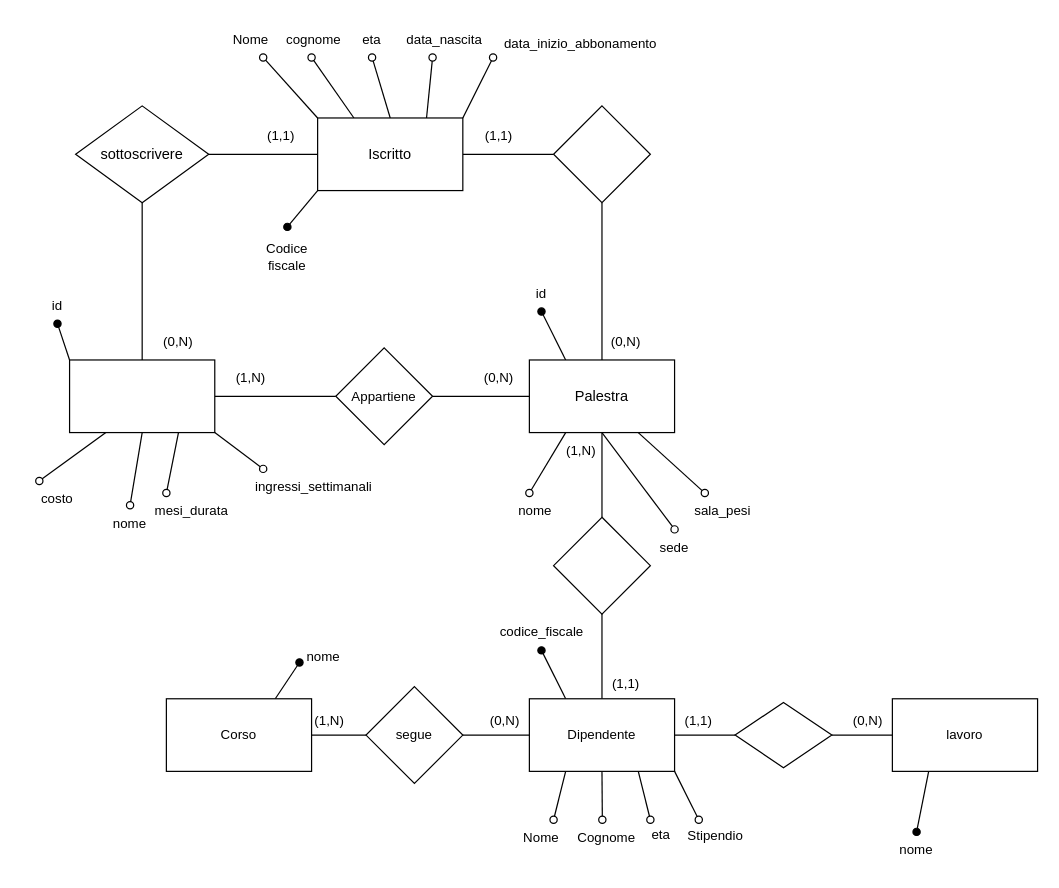
This 1059x888 diagram has some shape labels left out. The centre of each missing label's shape, as x and y in pixels:
"Abbonamento" goes at point 141,396.
"Iscrizione" goes at point 601,154.
"lavora" goes at point 601,565.
"svolge" goes at point 783,734.
